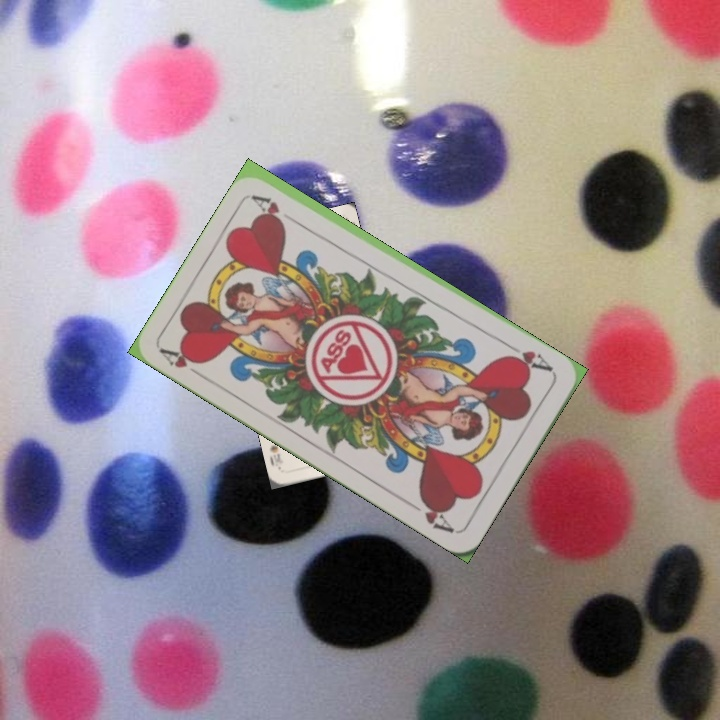HA: (157, 344, 209, 383), (501, 339, 556, 375)
